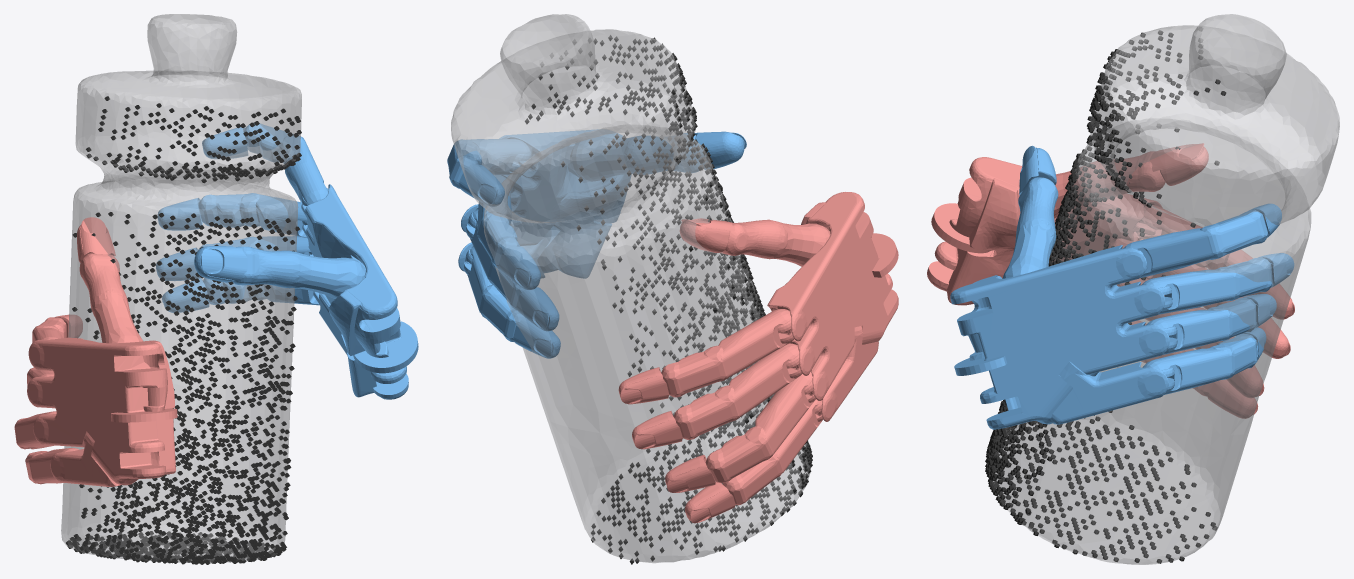
3 renders of one model, left to right at view 1: azimuth 30°, elevation 25°; view 2: azimuth 150°, elevation 25°; view 3: azimuth 270°, elevation 25°, orthographic. The views are drawn at different scales.
Parts seen in each view (by area): view 1: object_mesh_visualization_only, right_shadow_hand, object_pointcloud, left_shadow_hand; view 2: object_mesh_visualization_only, left_shadow_hand, right_shadow_hand, object_pointcloud; view 3: object_mesh_visualization_only, right_shadow_hand, left_shadow_hand, object_pointcloud.
Part boxes in pixels (box(x1,y1,x2,y2)): object_mesh_visualization_only: box(61, 14, 301, 562); right_shadow_hand: box(156, 123, 418, 399); object_pointcloud: box(66, 96, 301, 564); left_shadow_hand: box(14, 217, 177, 486); object_mesh_visualization_only: box(451, 14, 810, 563); left_shadow_hand: box(618, 192, 898, 523); right_shadow_hand: box(447, 129, 746, 358); object_pointcloud: box(525, 35, 812, 564); object_mesh_visualization_only: box(991, 14, 1339, 564); right_shadow_hand: box(950, 145, 1294, 429); left_shadow_hand: box(927, 143, 1294, 418); object_pointcloud: box(985, 27, 1225, 563).
Bounding box in the file's own units: 0.2205 × 0.3262 × 0.2249.
